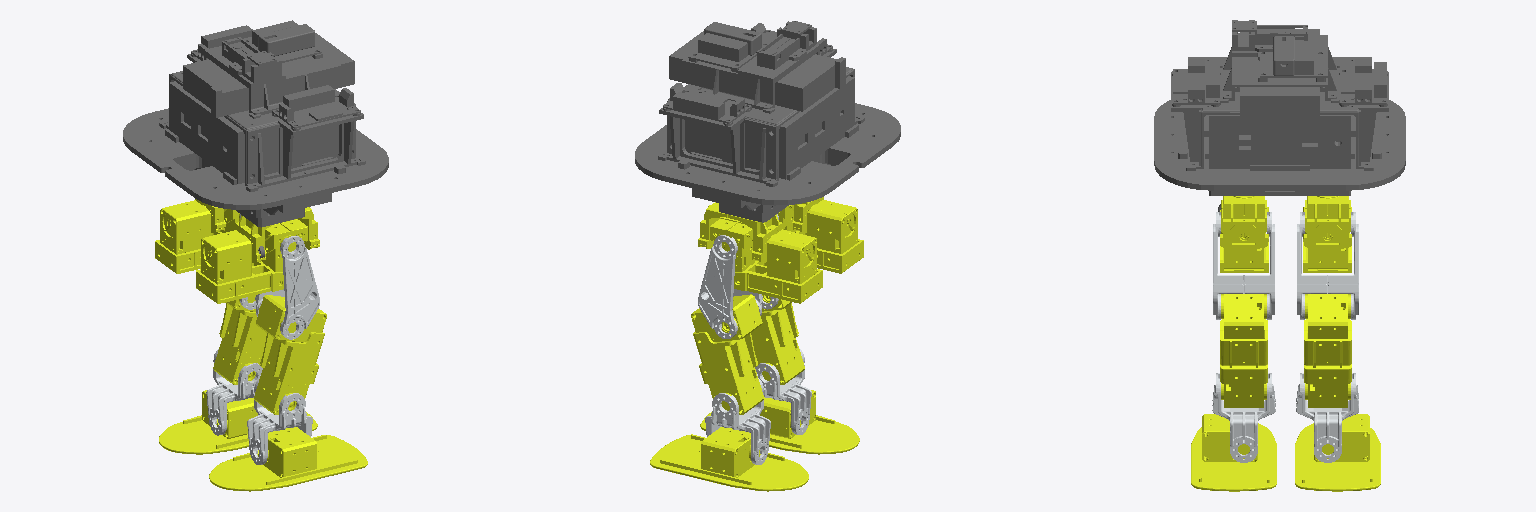
The robot description file, URDF, robot "exhx5_w_b_16":
<?xml version="1.0" encoding="utf-8"?>
<!-- This URDF was automatically created by SolidWorks to URDF Exporter! Originally created by [author] ([email redacted]) 
     Commit Version: 1.5.1-0-g916b5db  Build Version: 1.5.7152.31018
     For more information, please see http://wiki.ros.org/sw_urdf_exporter -->
<robot
  name="exhx5_w_b_16">
  <link
    name="body_link">
    <inertial>
      <origin
        xyz="0.00043545 0.00025536 0.10071"
        rpy="0 0 0" />
      <mass
        value="1.8238" />
      <inertia
        ixx="0.0025905"
        ixy="-5.6852E-06"
        ixz="-1.3106E-05"
        iyy="0.0024595"
        iyz="-1.261E-06"
        izz="0.0046407" />
    </inertial>
    <visual>
      <origin
        xyz="0 0 0"
        rpy="0 0 0" />
      <geometry>
        <mesh
          filename="../meshes/body_link.STL" />
      </geometry>
      <material
        name="">
        <color
          rgba="0.49804 0.49804 0.49804 1" />
      </material>
    </visual>
    <collision>
      <origin
        xyz="0 0 0"
        rpy="0 0 0" />
      <geometry>
        <mesh
          filename="../meshes/body_link.STL" />
      </geometry>
    </collision>
  </link>

  <link
    name="imu_link">
    <inertial>
      <origin
        xyz="-0.008387 1.336E-17 -0.0069463"
        rpy="0 0 0" />
      <mass
        value="0.0062931" />
      <inertia
        ixx="3.2242E-07"
        ixy="3.3527E-22"
        ixz="-6.9193E-08"
        iyy="9.2229E-07"
        iyz="-8.0392E-22"
        izz="1.1018E-06" />
    </inertial>
    <visual>
      <origin
        xyz="0 0 0"
        rpy="0 0 0" />
      <geometry>
        <mesh
          filename="../meshes/imu_link.STL" />
      </geometry>
      <material
        name="">
        <color
          rgba="0.79216 0.81961 0.93333 1" />
      </material>
    </visual>
    <collision>
      <origin
        xyz="0 0 0"
        rpy="0 0 0" />
      <geometry>
        <mesh
          filename="../meshes/imu_link.STL" />
      </geometry>
    </collision>
  </link>
  <joint
    name="imu"
    type="fixed">
    <origin
      xyz="0 0 0.0492"
      rpy="0 0 0" />
    <parent
      link="body_link" />
    <child
      link="imu_link" />
    <axis
      xyz="0 0 0" />
    <limit
      lower="-3.14"
      upper="3.14"
      effort="4"
      velocity="4" />
  </joint>
  <link
    name="l_hip_g_link">
    <inertial>
      <origin
        xyz="-0.0043797 -8.6604E-08 0.011813"
        rpy="0 0 0" />
      <mass
        value="0.061008" />
      <inertia
        ixx="1.167E-05"
        ixy="7.1767E-11"
        ixz="9.1442E-09"
        iyy="2.2342E-05"
        iyz="2.5177E-11"
        izz="2.4892E-05" />
    </inertial>
    <visual>
      <origin
        xyz="0 0 0"
        rpy="0 0 0" />
      <geometry>
        <mesh
          filename="../meshes/l_hip_g_link.STL" />
      </geometry>
      <material
        name="">
        <color
          rgba="0.9451 1 0.18431 1" />
      </material>
    </visual>
    <collision>
      <origin
        xyz="0 0 0"
        rpy="0 0 0" />
      <geometry>
        <mesh
          filename="../meshes/l_hip_g_link.STL" />
      </geometry>
    </collision>
  </link>
  <joint
    name="l_hip_g"
    type="fixed">
    <origin
      xyz=".002 .040 0"
      rpy="0 0 0" />
    <parent
      link="body_link" />
    <child
      link="l_hip_g_link" />
    <axis
      xyz="0 0 0" />
  </joint>
  <link
    name="l_hip_roll_link">
    <inertial>
      <origin
        xyz="0.013831 0.00033457 0.025453"
        rpy="0 0 0" />
      <mass
        value="0.2969" />
      <inertia
        ixx="7.8136E-05"
        ixy="7.265E-07"
        ixz="-6.9809E-08"
        iyy="9.2183E-05"
        iyz="-5.6881E-11"
        izz="7.1034E-05" />
    </inertial>
    <visual>
      <origin
        xyz="0 0 0"
        rpy="0 0 0" />
      <geometry>
        <mesh
          filename="../meshes/l_hip_roll_link.STL" />
      </geometry>
      <material
        name="">
        <color
          rgba="0.9451 1 0.18431 1" />
      </material>
    </visual>
    <collision>
      <origin
        xyz="0 0 0"
        rpy="0 0 0" />
      <geometry>
        <mesh
          filename="../meshes/l_hip_roll_link.STL" />
      </geometry>
    </collision>
  </link>
  <joint
    name="l_hip_roll"
    type="revolute">
    <origin
      xyz="0 0 0"
      rpy="3.1416 1.5708 0" />
    <parent
      link="l_hip_g_link" />
    <child
      link="l_hip_roll_link" />
    <axis
      xyz="0 0 1" />
    <limit
      lower="-3.14"
      upper="3.14"
      effort="4"
      velocity="4" />
  </joint>
  <link
    name="l_hip_pitch_link">
    <inertial>
      <origin
        xyz="0.041225 -0.007321 -5.0713E-08"
        rpy="0 0 0" />
      <mass
        value="0.051592" />
      <inertia
        ixx="2.7959E-05"
        ixy="2.0752E-06"
        ixz="-8.0934E-11"
        iyy="4.8156E-05"
        iyz="3.6317E-11"
        izz="2.9604E-05" />
    </inertial>
    <visual>
      <origin
        xyz="0 0 0"
        rpy="0 0 0" />
      <geometry>
        <mesh
          filename="../meshes/l_hip_pitch_link.STL" />
      </geometry>
      <material
        name="">
        <color
          rgba="0.89804 0.91765 0.92941 1" />
      </material>
    </visual>
    <collision>
      <origin
        xyz="0 0 0"
        rpy="0 0 0" />
      <geometry>
        <mesh
          filename="../meshes/l_hip_pitch_link.STL" />
      </geometry>
    </collision>
  </link>
  <joint
    name="l_hip_pitch"
    type="revolute">
    <origin
      xyz="0 0 0"
      rpy="1.5708 0 0" />
    <parent
      link="l_hip_roll_link" />
    <child
      link="l_hip_pitch_link" />
    <axis
      xyz="0 0 1" />
    <limit
      lower="-3.14"
      upper="3.14"
      effort="4"
      velocity="4" />
  </joint>
  <link
    name="l_knee_link">
    <inertial>
      <origin
        xyz="0.033756 -0.0084189 -6.6115E-09"
        rpy="0 0 0" />
      <mass
        value="0.28878" />
      <inertia
        ixx="6.6724E-05"
        ixy="7.5004E-07"
        ixz="-8.4578E-07"
        iyy="6.5699E-05"
        iyz="4.1085E-07"
        izz="7.0381E-05" />
    </inertial>
    <visual>
      <origin
        xyz="0 0 0"
        rpy="0 0 0" />
      <geometry>
        <mesh
          filename="../meshes/l_knee_link.STL" />
      </geometry>
      <material
        name="">
        <color
          rgba="0.9451 1 0.18431 1" />
      </material>
    </visual>
    <collision>
      <origin
        xyz="0 0 0"
        rpy="0 0 0" />
      <geometry>
        <mesh
          filename="../meshes/l_knee_link.STL" />
      </geometry>
    </collision>
  </link>
  <joint
    name="l_knee"
    type="revolute">
    <origin
      xyz="0.075954 0 0"
      rpy="0 0 0" />
    <parent
      link="l_hip_pitch_link" />
    <child
      link="l_knee_link" />
    <axis
      xyz="0 0 1" />
    <limit
      lower="-3.14"
      upper="3.14"
      effort="4"
      velocity="4" />
  </joint>
  <link
    name="l_ank_pitch_link">
    <inertial>
      <origin
        xyz="0.022786 -7.3909E-09 -7.1981E-06"
        rpy="0 0 0" />
      <mass
        value="0.044772" />
      <inertia
        ixx="1.777E-05"
        ixy="8.555E-14"
        ixz="-3.3713E-09"
        iyy="1.7119E-05"
        iyz="1.7593E-11"
        izz="1.8661E-05" />
    </inertial>
    <visual>
      <origin
        xyz="0 0 0"
        rpy="0 0 0" />
      <geometry>
        <mesh
          filename="../meshes/l_ank_pitch_link.STL" />
      </geometry>
      <material
        name="">
        <color
          rgba="0.89804 0.91765 0.92941 1" />
      </material>
    </visual>
    <collision>
      <origin
        xyz="0 0 0"
        rpy="0 0 0" />
      <geometry>
        <mesh
          filename="../meshes/l_ank_pitch_link.STL" />
      </geometry>
    </collision>
  </link>
  <joint
    name="l_ank_pitch"
    type="revolute">
    <origin
      xyz="0.074602 0 0"
      rpy="3.1416 0 0" />
    <parent
      link="l_knee_link" />
    <child
      link="l_ank_pitch_link" />
    <axis
      xyz="0 0 1" />
    <limit
      lower="-3.14"
      upper="3.14"
      effort="4"
      velocity="4" />
  </joint>
  <link
    name="l_ank_roll_link">
    <inertial>
      <origin
        xyz="0.0047069 0.010728 0.0015299"
        rpy="0 0 0" />
      <mass
        value="0.16774" />
      <inertia
        ixx="0.00012039"
        ixy="-3.7428E-09"
        ixz="4.4069E-08"
        iyy="8.7735E-05"
        iyz="7.0469E-07"
        izz="4.7866E-05" />
    </inertial>
    <visual>
      <origin
        xyz="0 0 0"
        rpy="0 0 0" />
      <geometry>
        <mesh
          filename="../meshes/l_ank_roll_link.STL" />
      </geometry>
      <material
        name="">
        <color
          rgba="0.9451 1 0.18431 1" />
      </material>
    </visual>
    <collision>
      <origin
        xyz="0 0 0"
        rpy="0 0 0" />
      <geometry>
        <mesh
          filename="../meshes/l_ank_roll_link.STL" />
      </geometry>
    </collision>
  </link>
  <joint
    name="l_ank_roll"
    type="revolute">
    <origin
      xyz="0.0465 0 0"
      rpy="-1.5708 0 0" />
    <parent
      link="l_ank_pitch_link" />
    <child
      link="l_ank_roll_link" />
    <axis
      xyz="0 0 1" />
    <limit
      lower="-3.14"
      upper="3.14"
      effort="4"
      velocity="4" />
  </joint>
  <link
    name="r_hip_g_link">
    <inertial>
      <origin
        xyz="-0.0043797 -8.6604E-08 0.011813"
        rpy="0 0 0" />
      <mass
        value="0.061008" />
      <inertia
        ixx="1.167E-05"
        ixy="7.1767E-11"
        ixz="9.1442E-09"
        iyy="2.2342E-05"
        iyz="2.5177E-11"
        izz="2.4892E-05" />
    </inertial>
    <visual>
      <origin
        xyz="0 0 0"
        rpy="0 0 0" />
      <geometry>
        <mesh
          filename="../meshes/r_hip_g_link.STL" />
      </geometry>
      <material
        name="">
        <color
          rgba="0.9451 1 0.18431 1" />
      </material>
    </visual>
    <collision>
      <origin
        xyz="0 0 0"
        rpy="0 0 0" />
      <geometry>
        <mesh
          filename="../meshes/r_hip_g_link.STL" />
      </geometry>
    </collision>
  </link>
  <joint
    name="r_hip_g"
    type="fixed">
    <origin
      xyz=".002 -.030 0"
      rpy="0 0 0" />
    <parent
      link="body_link" />
    <child
      link="r_hip_g_link" />
    <axis
      xyz="0 0 0" />
  </joint>
  <link
    name="r_hip_roll_link">
    <inertial>
      <origin
        xyz="0.013831 0.00033457 0.025453"
        rpy="0 0 0" />
      <mass
        value="0.2969" />
      <inertia
        ixx="7.8136E-05"
        ixy="7.265E-07"
        ixz="-6.9809E-08"
        iyy="9.2183E-05"
        iyz="-5.6881E-11"
        izz="7.1034E-05" />
    </inertial>
    <visual>
      <origin
        xyz="0 0 0"
        rpy="0 0 0" />
      <geometry>
        <mesh
          filename="../meshes/r_hip_roll_link.STL" />
      </geometry>
      <material
        name="">
        <color
          rgba="0.9451 1 0.18431 1" />
      </material>
    </visual>
    <collision>
      <origin
        xyz="0 0 0"
        rpy="0 0 0" />
      <geometry>
        <mesh
          filename="../meshes/r_hip_roll_link.STL" />
      </geometry>
    </collision>
  </link>
  <joint
    name="r_hip_roll"
    type="revolute">
    <origin
      xyz="0 0 0"
      rpy="3.1416 1.5708 0" />
    <parent
      link="r_hip_g_link" />
    <child
      link="r_hip_roll_link" />
    <axis
      xyz="0 0 1" />
    <limit
      lower="-3.14"
      upper="3.14"
      effort="4"
      velocity="4" />
  </joint>
  <link
    name="r_hip_pitch_link">
    <inertial>
      <origin
        xyz="0.041225 0.007321 5.0713E-08"
        rpy="0 0 0" />
      <mass
        value="0.051592" />
      <inertia
        ixx="2.7959E-05"
        ixy="-2.0752E-06"
        ixz="8.0934E-11"
        iyy="4.8156E-05"
        iyz="3.6317E-11"
        izz="2.9604E-05" />
    </inertial>
    <visual>
      <origin
        xyz="0 0 0"
        rpy="0 0 0" />
      <geometry>
        <mesh
          filename="../meshes/r_hip_pitch_link.STL" />
      </geometry>
      <material
        name="">
        <color
          rgba="0.89804 0.91765 0.92941 1" />
      </material>
    </visual>
    <collision>
      <origin
        xyz="0 0 0"
        rpy="0 0 0" />
      <geometry>
        <mesh
          filename="../meshes/r_hip_pitch_link.STL" />
      </geometry>
    </collision>
  </link>
  <joint
    name="r_hip_pitch"
    type="revolute">
    <origin
      xyz="0 0 0"
      rpy="-1.5708 0 0" />
    <parent
      link="r_hip_roll_link" />
    <child
      link="r_hip_pitch_link" />
    <axis
      xyz="0 0 1" />
    <limit
      lower="-3.14"
      upper="3.14"
      effort="4"
      velocity="4" />
  </joint>
  <link
    name="r_knee_link">
    <inertial>
      <origin
        xyz="0.033757 0.0084176 6.6115E-09"
        rpy="0 0 0" />
      <mass
        value="0.28878" />
      <inertia
        ixx="6.6724E-05"
        ixy="-7.5008E-07"
        ixz="8.458E-07"
        iyy="6.5699E-05"
        iyz="4.1081E-07"
        izz="7.0381E-05" />
    </inertial>
    <visual>
      <origin
        xyz="0 0 0"
        rpy="0 0 0" />
      <geometry>
        <mesh
          filename="../meshes/r_knee_link.STL" />
      </geometry>
      <material
        name="">
        <color
          rgba="0.9451 1 0.18431 1" />
      </material>
    </visual>
    <collision>
      <origin
        xyz="0 0 0"
        rpy="0 0 0" />
      <geometry>
        <mesh
          filename="../meshes/r_knee_link.STL" />
      </geometry>
    </collision>
  </link>
  <joint
    name="r_knee"
    type="revolute">
    <origin
      xyz="0.075954 0 0"
      rpy="0 0 0" />
    <parent
      link="r_hip_pitch_link" />
    <child
      link="r_knee_link" />
    <axis
      xyz="0 0 1" />
    <limit
      lower="-3.14"
      upper="3.14"
      effort="4"
      velocity="4" />
  </joint>
  <link
    name="r_ank_pitch_link">
    <inertial>
      <origin
        xyz="0.025786 -7.3887E-09 -7.1981E-06"
        rpy="0 0 0" />
      <mass
        value="0.044772" />
      <inertia
        ixx="1.777E-05"
        ixy="8.5434E-14"
        ixz="-3.3713E-09"
        iyy="1.7119E-05"
        iyz="1.7592E-11"
        izz="1.8661E-05" />
    </inertial>
    <visual>
      <origin
        xyz="0 0 0"
        rpy="0 0 0" />
      <geometry>
        <mesh
          filename="../meshes/r_ank_pitch_link.STL" />
      </geometry>
      <material
        name="">
        <color
          rgba="0.89804 0.91765 0.92941 1" />
      </material>
    </visual>
    <collision>
      <origin
        xyz="0 0 0"
        rpy="0 0 0" />
      <geometry>
        <mesh
          filename="../meshes/r_ank_pitch_link.STL" />
      </geometry>
    </collision>
  </link>
  <joint
    name="r_ank_pitch"
    type="revolute">
    <origin
      xyz="0.071602 0 0"
      rpy="3.1416 0 0" />
    <parent
      link="r_knee_link" />
    <child
      link="r_ank_pitch_link" />
    <axis
      xyz="0 0 1" />
    <limit
      lower="-3.14"
      upper="3.14"
      effort="4"
      velocity="4" />
  </joint>
  <link
    name="r_ank_roll_link">
    <inertial>
      <origin
        xyz="0.0077069 -0.010728 0.0015299"
        rpy="0 0 0" />
      <mass
        value="0.16774" />
      <inertia
        ixx="0.00012039"
        ixy="3.743E-09"
        ixz="4.407E-08"
        iyy="8.7735E-05"
        iyz="-7.0467E-07"
        izz="4.7866E-05" />
    </inertial>
    <visual>
      <origin
        xyz="0 0 0"
        rpy="0 0 0" />
      <geometry>
        <mesh
          filename="../meshes/r_ank_roll_link.STL" />
      </geometry>
      <material
        name="">
        <color
          rgba="0.9451 1 0.18431 1" />
      </material>
    </visual>
    <collision>
      <origin
        xyz="0 0 0"
        rpy="0 0 0" />
      <geometry>
        <mesh
          filename="../meshes/r_ank_roll_link.STL" />
      </geometry>
    </collision>
  </link>
  <joint
    name="r_ank_roll"
    type="revolute">
    <origin
      xyz="0.0465 0 0"
      rpy="1.5708 0 0" />
    <parent
      link="r_ank_pitch_link" />
    <child
      link="r_ank_roll_link" />
    <axis
      xyz="0 0 1" />
    <limit
      lower="-3.14"
      upper="3.14"
      effort="4"
      velocity="4" />
  </joint>
  <transmission name="r_hip_roll_tran">
    <type>transmission_interface/SimpleTransmission</type>
    <joint name="r_hip_roll">
      <hardwareInterface>hardware_interface/EffortJointInterface</hardwareInterface>
    </joint>
    <actuator name="r_hip_roll_motor">
      <hardwareInterface>hardware_interface/EffortJointInterface</hardwareInterface>
      <mechanicalReduction>1</mechanicalReduction>
    </actuator>
  </transmission>
  <transmission name="r_hip_pitch_tran">
    <type>transmission_interface/SimpleTransmission</type>
    <joint name="r_hip_pitch">
      <hardwareInterface>hardware_interface/EffortJointInterface</hardwareInterface>
    </joint>
    <actuator name="r_hip_pitch_motor">
      <hardwareInterface>hardware_interface/EffortJointInterface</hardwareInterface>
      <mechanicalReduction>1</mechanicalReduction>
    </actuator>
  </transmission>
  <transmission name="r_knee_tran">
    <type>transmission_interface/SimpleTransmission</type>
    <joint name="r_knee">
      <hardwareInterface>hardware_interface/EffortJointInterface</hardwareInterface>
    </joint>
    <actuator name="r_knee_motor">
      <hardwareInterface>hardware_interface/EffortJointInterface</hardwareInterface>
      <mechanicalReduction>1</mechanicalReduction>
    </actuator>
  </transmission>
  <transmission name="r_ank_pitch_tran">
    <type>transmission_interface/SimpleTransmission</type>
    <joint name="r_ank_pitch">
      <hardwareInterface>hardware_interface/EffortJointInterface</hardwareInterface>
    </joint>
    <actuator name="r_ank_pitch_motor">
      <hardwareInterface>hardware_interface/EffortJointInterface</hardwareInterface>
      <mechanicalReduction>1</mechanicalReduction>
    </actuator>
  </transmission>
  <transmission name="r_ank_roll_tran">
    <type>transmission_interface/SimpleTransmission</type>
    <joint name="r_ank_roll">
      <hardwareInterface>hardware_interface/EffortJointInterface</hardwareInterface>
    </joint>
    <actuator name="r_ank_roll_motor">
      <hardwareInterface>hardware_interface/EffortJointInterface</hardwareInterface>
      <mechanicalReduction>1</mechanicalReduction>
    </actuator>
  </transmission>
  <transmission name="l_hip_roll_tran">
    <type>transmission_interface/SimpleTransmission</type>
    <joint name="l_hip_roll">
      <hardwareInterface>hardware_interface/EffortJointInterface</hardwareInterface>
    </joint>
    <actuator name="l_hip_roll_motor">
      <hardwareInterface>hardware_interface/EffortJointInterface</hardwareInterface>
      <mechanicalReduction>1</mechanicalReduction>
    </actuator>
  </transmission>
  <transmission name="l_hip_pitch_tran">
    <type>transmission_interface/SimpleTransmission</type>
    <joint name="l_hip_pitch">
      <hardwareInterface>hardware_interface/EffortJointInterface</hardwareInterface>
    </joint>
    <actuator name="l_hip_pitch_motor">
      <hardwareInterface>hardware_interface/EffortJointInterface</hardwareInterface>
      <mechanicalReduction>1</mechanicalReduction>
    </actuator>
  </transmission>
  <transmission name="l_knee_tran">
    <type>transmission_interface/SimpleTransmission</type>
    <joint name="l_knee">
      <hardwareInterface>hardware_interface/EffortJointInterface</hardwareInterface>
    </joint>
    <actuator name="l_knee_motor">
      <hardwareInterface>hardware_interface/EffortJointInterface</hardwareInterface>
      <mechanicalReduction>1</mechanicalReduction>
    </actuator>
  </transmission>
  <transmission name="l_ank_pitch_tran">
    <type>transmission_interface/SimpleTransmission</type>
    <joint name="l_ank_pitch">
      <hardwareInterface>hardware_interface/EffortJointInterface</hardwareInterface>
    </joint>
    <actuator name="l_ank_pitch_motor">
      <hardwareInterface>hardware_interface/EffortJointInterface</hardwareInterface>
      <mechanicalReduction>1</mechanicalReduction>
    </actuator>
  </transmission>
  <transmission name="l_ank_roll_tran">
    <type>transmission_interface/SimpleTransmission</type>
    <joint name="l_ank_roll">
      <hardwareInterface>hardware_interface/EffortJointInterface</hardwareInterface>
    </joint>
    <actuator name="l_ank_roll_motor">
      <hardwareInterface>hardware_interface/EffortJointInterface</hardwareInterface>
      <mechanicalReduction>1</mechanicalReduction>
    </actuator>
  </transmission>
</robot>

--- What the picture shows (computed from the rendered views, not written in the file) ---
The picture shows the robot from 3 angles, left to right: view 1: azimuth 30°, elevation 25°; view 2: azimuth 150°, elevation 25°; view 3: azimuth 270°, elevation 25°; orthographic projection.
Model exhx5_w_b_16 with 14 links and 13 joints (10 revolute, 3 fixed), rooted at body_link, posed all joints at 0.
Links seen in each view (by area): view 1: body_link, r_ank_roll_link, r_hip_roll_link, r_knee_link, l_hip_roll_link, l_ank_roll_link, r_hip_pitch_link, l_knee_link, r_ank_pitch_link, l_ank_pitch_link, r_hip_g_link; view 2: body_link, l_ank_roll_link, l_hip_roll_link, l_knee_link, r_hip_roll_link, r_ank_roll_link, l_hip_pitch_link, r_knee_link, l_ank_pitch_link, r_ank_pitch_link, l_hip_g_link; view 3: body_link, l_knee_link, r_knee_link, r_ank_roll_link, l_ank_roll_link, l_hip_pitch_link, r_hip_pitch_link, l_hip_g_link, r_hip_g_link, l_ank_pitch_link, r_ank_pitch_link, l_hip_roll_link (+1 smaller).
Boxes of the visible links, x1,y1,x2,y2 form: body_link: [123, 20, 388, 257]; r_ank_roll_link: [209, 427, 367, 491]; r_hip_roll_link: [196, 219, 307, 303]; r_knee_link: [254, 295, 326, 414]; l_hip_roll_link: [155, 200, 239, 273]; l_ank_roll_link: [159, 390, 317, 454]; r_hip_pitch_link: [256, 235, 319, 339]; l_knee_link: [213, 295, 266, 384]; r_ank_pitch_link: [247, 378, 312, 464]; l_ank_pitch_link: [206, 349, 262, 435]; r_hip_g_link: [235, 207, 319, 262]; body_link: [635, 21, 900, 222]; l_ank_roll_link: [650, 427, 808, 491]; l_hip_roll_link: [710, 217, 822, 303]; l_knee_link: [691, 294, 763, 414]; r_hip_roll_link: [778, 200, 863, 273]; r_ank_roll_link: [700, 390, 859, 454]; l_hip_pitch_link: [698, 235, 762, 338]; r_knee_link: [751, 295, 804, 384]; l_ank_pitch_link: [705, 378, 770, 464]; r_ank_pitch_link: [755, 348, 811, 434]; l_hip_g_link: [698, 202, 782, 262]; body_link: [1154, 20, 1405, 211]; l_knee_link: [1304, 294, 1351, 407]; r_knee_link: [1220, 294, 1267, 407]; r_ank_roll_link: [1191, 414, 1276, 491]; l_ank_roll_link: [1295, 414, 1380, 491]; l_hip_pitch_link: [1297, 212, 1358, 319]; r_hip_pitch_link: [1213, 212, 1274, 319]; l_hip_g_link: [1303, 196, 1351, 247]; r_hip_g_link: [1220, 196, 1268, 247]; l_ank_pitch_link: [1296, 373, 1358, 462]; r_ank_pitch_link: [1212, 373, 1275, 462]; l_hip_roll_link: [1303, 200, 1351, 272].
Size in the robot's own frame: 0.185 by 0.21 by 0.3893 metres.
Meshes: 14 distinct files referenced, 14 mesh visuals loaded (14 binary STL).
